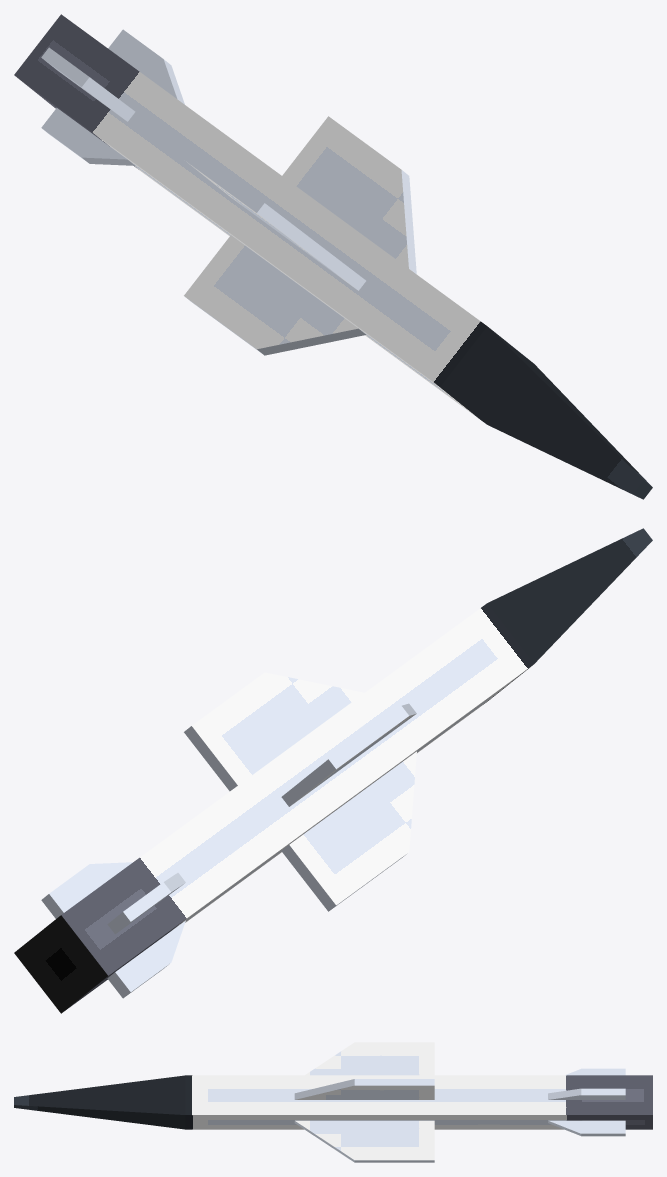
3 renders of one model, top to bottom at view 1: azimuth 30°, elevation 25°; view 2: azimuth 150°, elevation 25°; view 3: azimuth 270°, elevation 25°, orthographic. The views are drawn at different scales.
Visible parts, largest first — view 1: rocket; view 2: rocket; view 3: rocket.
Boxes of the visible parts, bbox=[...] form: rocket: bbox=[14, 14, 652, 499]; rocket: bbox=[14, 528, 652, 1013]; rocket: bbox=[14, 1042, 652, 1162].
Bounding box in the file's own units: 0.6937 × 0.6634 × 4.59.
